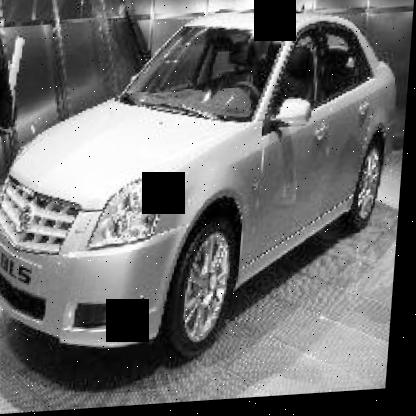not_emergency: (0, 4, 402, 371)
